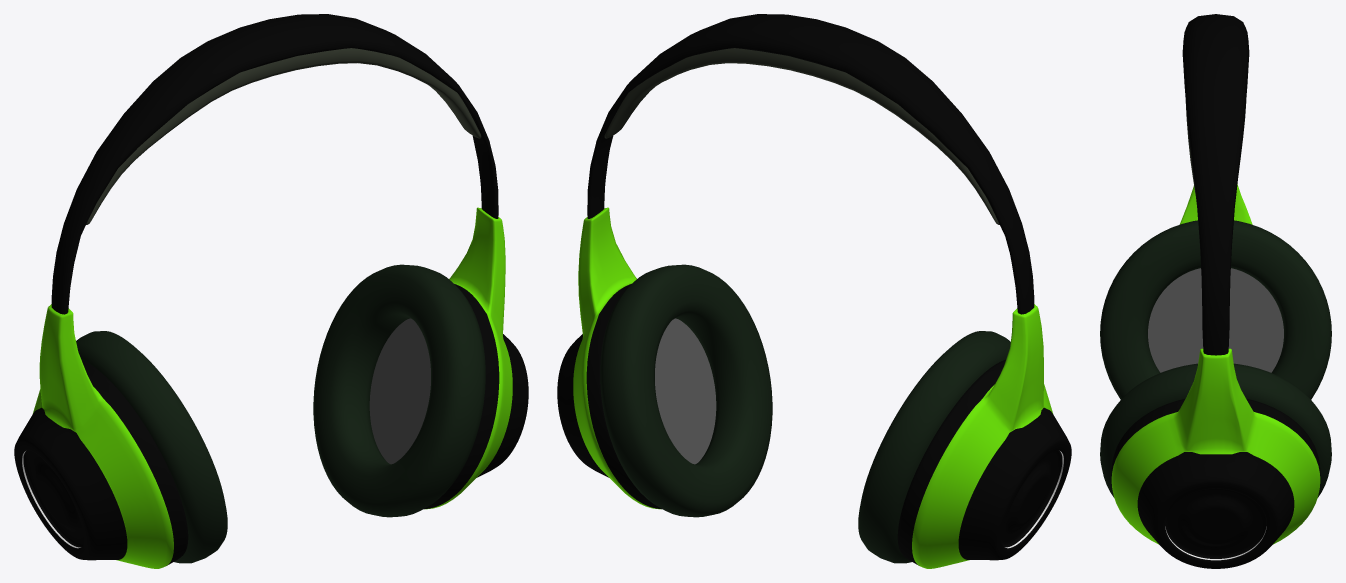
The model's file is uploads_files_3845521_HeadPhones+G-250.fbx.
3 renders of one model, left to right at view 1: azimuth 30°, elevation 25°; view 2: azimuth 150°, elevation 25°; view 3: azimuth 270°, elevation 25°, orthographic. The views are drawn at different scales.
Visible parts, largest first — view 1: Earcup, Earpiece, HeadSet, EarpieceMesh, HeadSetFabric; view 2: Earcup, Earpiece, HeadSet, EarpieceMesh, HeadSetFabric; view 3: Earpiece, Earcup, HeadSet, EarpieceMesh.
Boxes of the visible parts, <box> form: Earcup: <box>76,264,485,563</box>; Earpiece: <box>14,207,528,568</box>; HeadSet: <box>51,14,498,314</box>; EarpieceMesh: <box>369,318,430,464</box>; HeadSetFabric: <box>86,48,481,224</box>; Earcup: <box>600,264,1010,563</box>; Earpiece: <box>557,207,1071,568</box>; HeadSet: <box>587,14,1034,314</box>; EarpieceMesh: <box>655,318,716,464</box>; HeadSetFabric: <box>604,48,999,224</box>; Earpiece: <box>1111,184,1320,568</box>; Earcup: <box>1100,220,1331,497</box>; HeadSet: <box>1182,14,1249,355</box>; EarpieceMesh: <box>1148,268,1283,372</box>.
Bounding box in the file's own units: 16.66 × 17.01 × 7.72.
